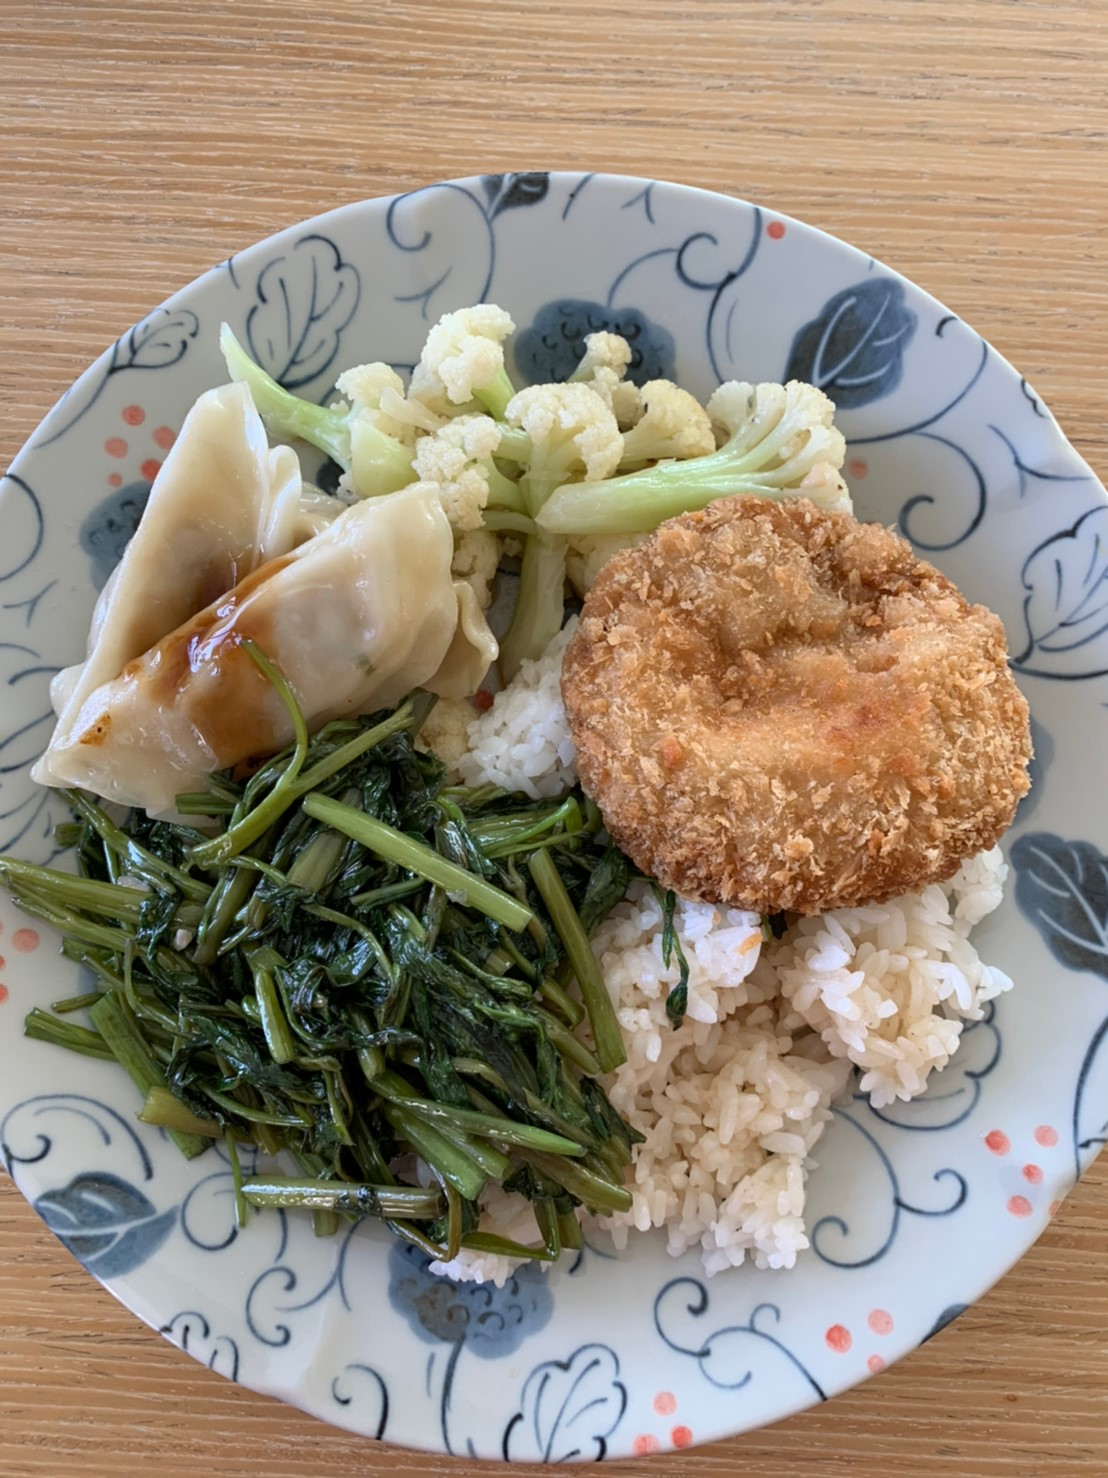fried_dumplings: (31, 381, 456, 820)
rice: (606, 887, 987, 1263)
water_spinach: (63, 737, 578, 1222)
